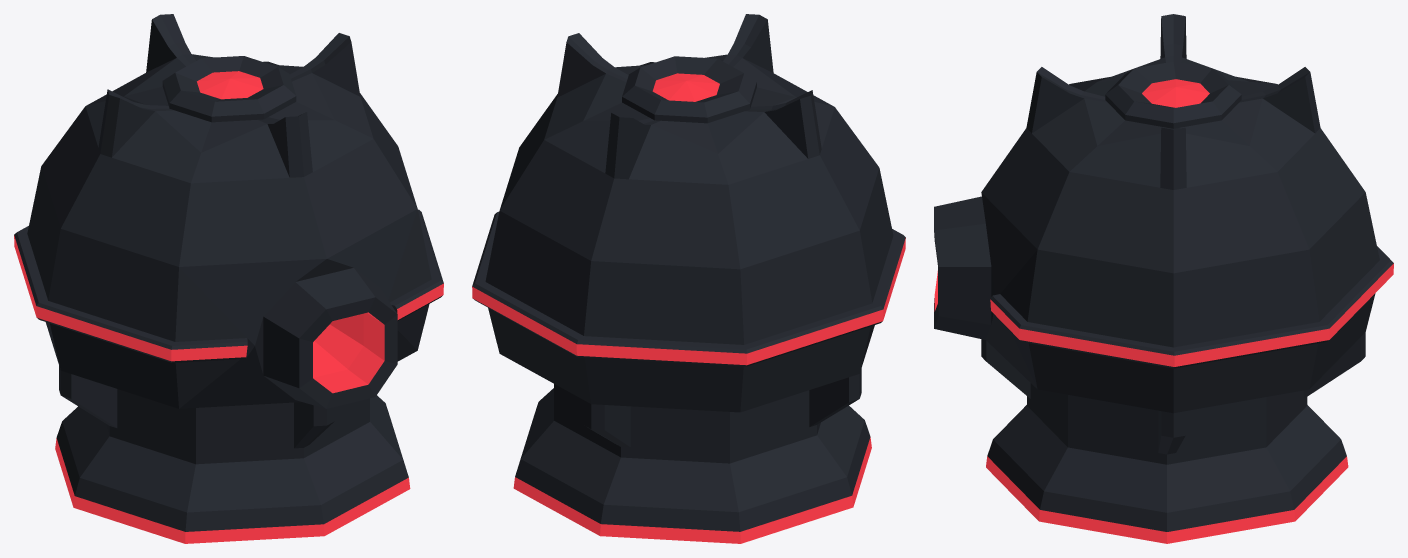
The model's file is red_sphinx.gltf.
3 views of the same model, side by side, from view 1: azimuth 30°, elevation 25°; view 2: azimuth 150°, elevation 25°; view 3: azimuth 270°, elevation 25° (orthographic). The views are drawn at different scales.
Parts seen in each view (by area): view 1: red_sphinx; view 2: red_sphinx; view 3: red_sphinx.
Part boxes in pixels (left/top/right/bottom): red_sphinx: left=14, top=14, right=443, bottom=543; red_sphinx: left=472, top=14, right=905, bottom=543; red_sphinx: left=934, top=14, right=1393, bottom=543.
Size of what is drawn, in the model's own units: 1.81 by 1.8 by 1.9.
2 materials, 2 textured.
